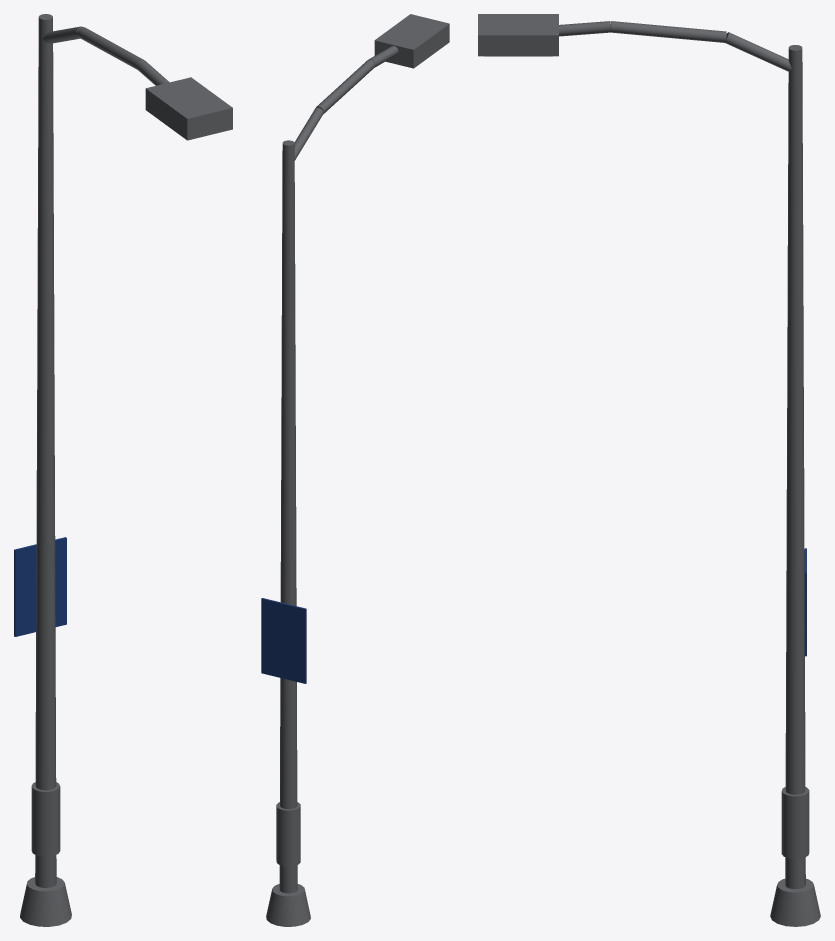
The model's file is sokak_lambasi.glb.
3 views of the same model, side by side, from view 1: azimuth 30°, elevation 25°; view 2: azimuth 150°, elevation 25°; view 3: azimuth 270°, elevation 25° (orthographic). The views are drawn at different scales.
Parts seen in each view (by area): view 1: Sokak_Lambasi; view 2: Sokak_Lambasi; view 3: Sokak_Lambasi.
Part boxes in pixels (x1=…): Sokak_Lambasi: x1=14, y1=14, x2=232, y2=926; Sokak_Lambasi: x1=261, y1=14, x2=449, y2=926; Sokak_Lambasi: x1=478, y1=14, x2=820, y2=926.
Bounding box in the file's own units: 0.4999 × 8.55 × 2.97.
